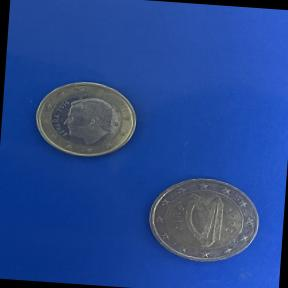1 Euro-B: (26, 73, 144, 166)
2 Euro-B: (140, 170, 268, 270)
